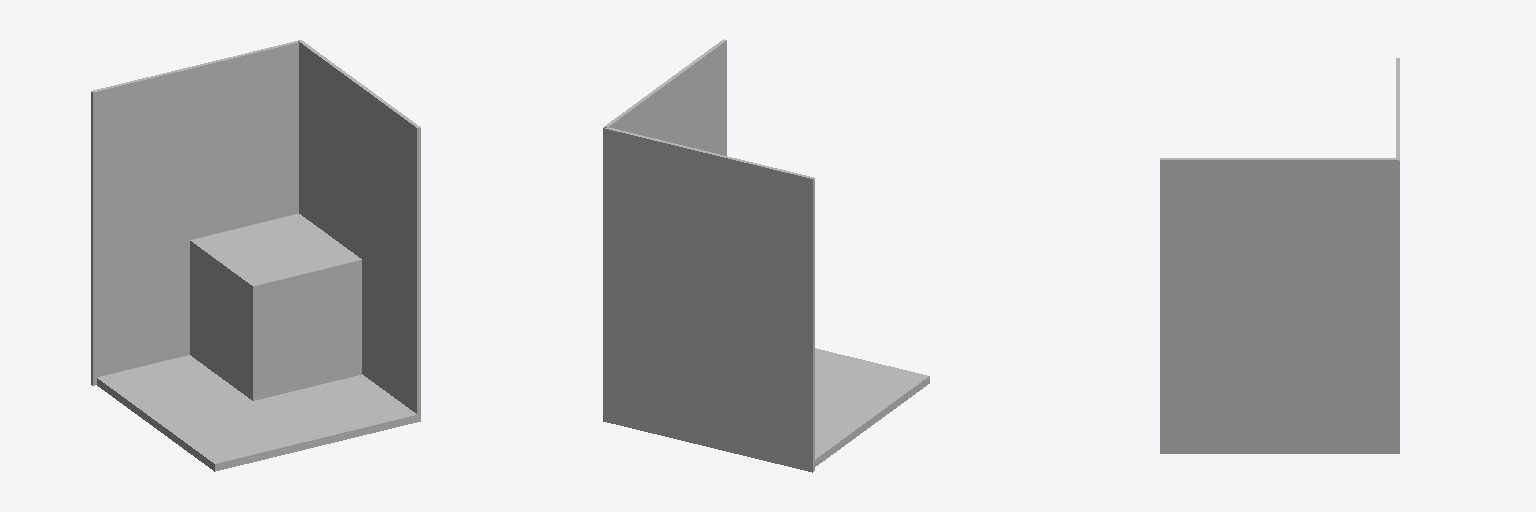
File: box-corner.obj
The picture shows the model from 3 angles: view 1: azimuth 30°, elevation 25°; view 2: azimuth 150°, elevation 25°; view 3: azimuth 270°, elevation 25°; orthographic projection.
Parts seen in each view (by area): view 1: Object.2, Object.1, Object.4, Object.3; view 2: Object.2, Object.1, Object.3; view 3: Object.1, Object.2.
Part boxes in pixels (x1,y1,x2,y2): Object.2: (91, 40, 299, 385); Object.1: (298, 40, 420, 421); Object.4: (190, 214, 361, 400); Object.3: (97, 355, 416, 471); Object.2: (603, 127, 814, 472); Object.1: (604, 39, 726, 155); Object.3: (815, 348, 929, 466); Object.1: (1160, 158, 1398, 453); Object.2: (1396, 58, 1399, 453).
Bounding box in the file's own units: 1150 × 1539 × 1142.